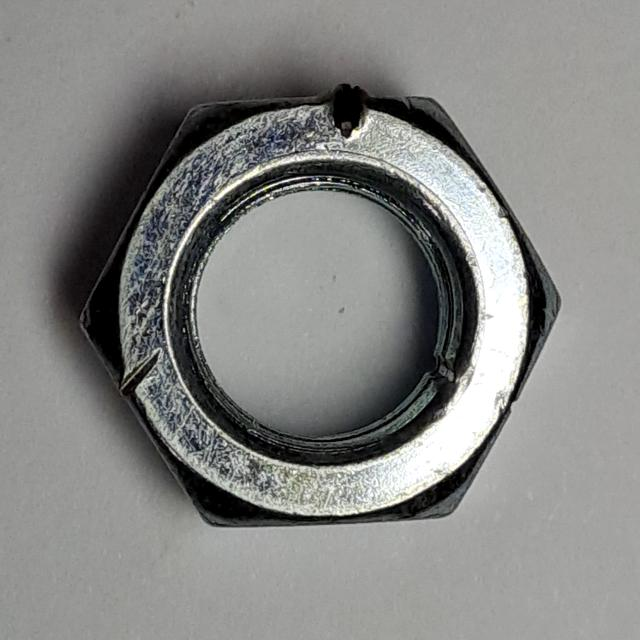Scratches: (68, 72, 574, 544)
